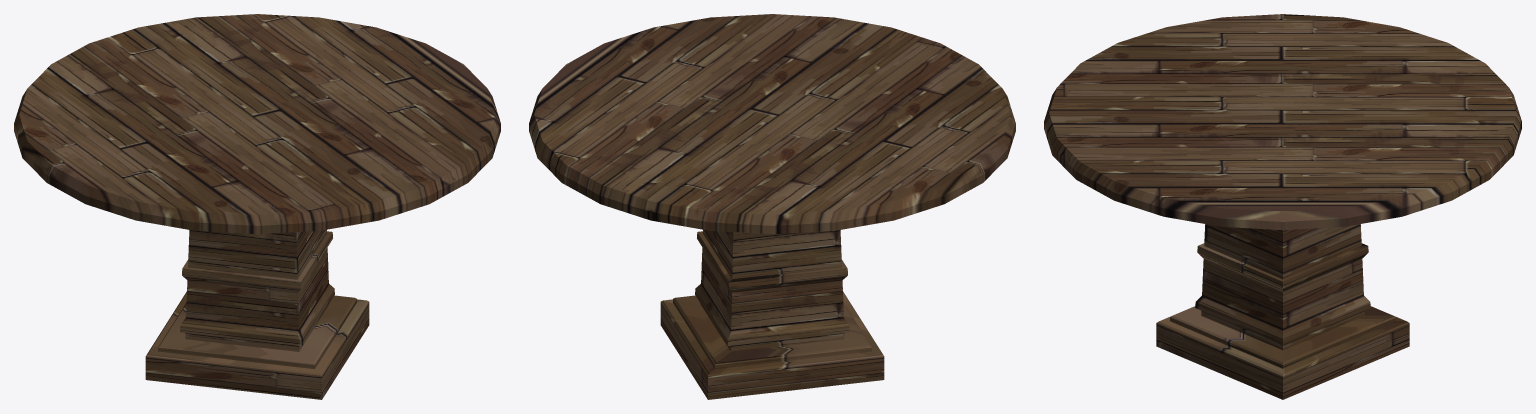
File: table.fbx
3 views of the same model, side by side, from view 1: azimuth 30°, elevation 25°; view 2: azimuth 150°, elevation 25°; view 3: azimuth 270°, elevation 25° (orthographic).
Visible parts, largest first — view 1: Cylinder, Cube; view 2: Cylinder, Cube; view 3: Cylinder, Cube.
Part boxes in pixels (x1=…): Cylinder: x1=14, y1=14, x2=500, y2=234; Cube: x1=145, y1=229, x2=369, y2=399; Cylinder: x1=529, y1=14, x2=1015, y2=234; Cube: x1=660, y1=229, x2=884, y2=399; Cylinder: x1=1044, y1=14, x2=1521, y2=230; Cube: x1=1156, y1=224, x2=1409, y2=399.
Bounding box in the file's own units: 340 × 183 × 340.
Materials: 1 (1 with a texture image).
